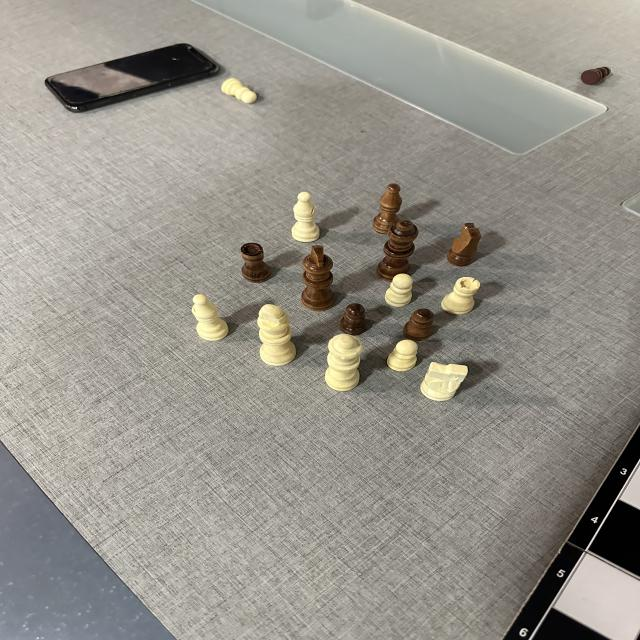Black-Bishop: (373, 183, 402, 235)
Black-King: (301, 245, 335, 311)
Black-Knight: (447, 223, 482, 266)
Black-Pawn: (403, 308, 434, 341), (339, 303, 367, 336), (581, 66, 612, 85)
Black-Queen: (377, 220, 419, 281)
Black-Rook: (240, 243, 272, 283)
White-Bishop: (191, 294, 230, 342), (291, 192, 320, 242)
White-King: (256, 304, 297, 366)
White-Knight: (420, 362, 469, 402)
White-Pawn: (387, 339, 418, 372), (384, 273, 414, 307), (221, 78, 257, 104)
White-Queen: (324, 334, 363, 392)
White-Rook: (440, 277, 480, 315)
